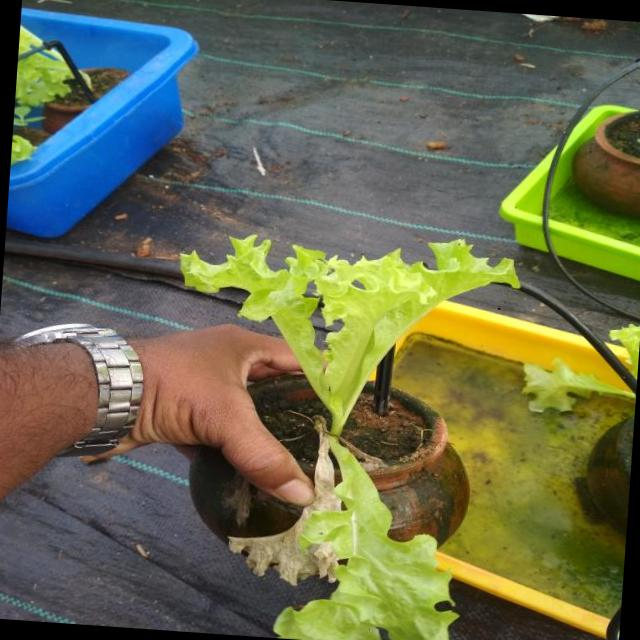Lettuce-Not-Ready-to-Harvest: (181, 235, 517, 640), (11, 25, 73, 164)
